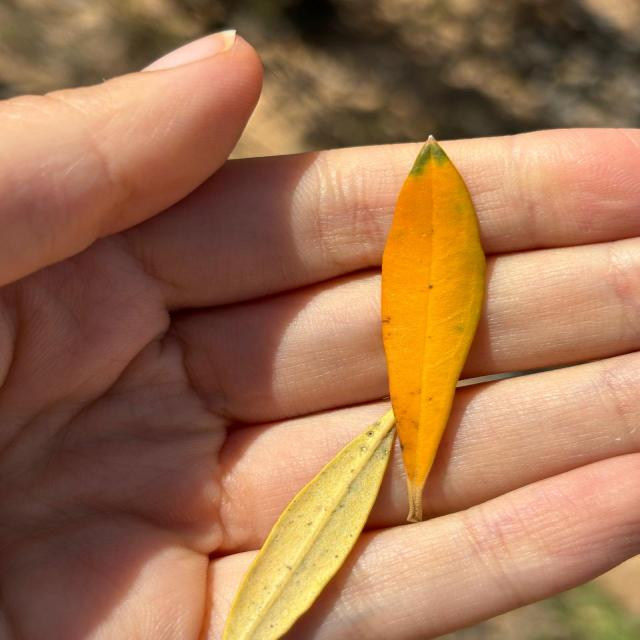Peacock Eye: (381, 137, 486, 523)
